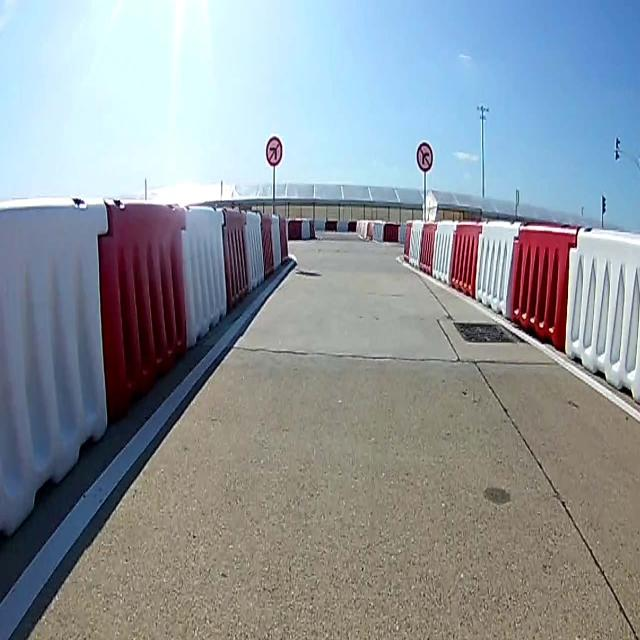sagadonulmez: (416, 140, 434, 172)
soladonulmez: (265, 137, 283, 171)
